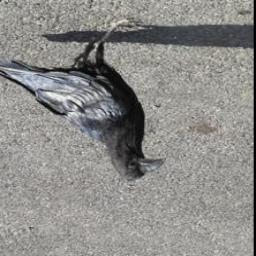Crow: (0, 19, 166, 184)
